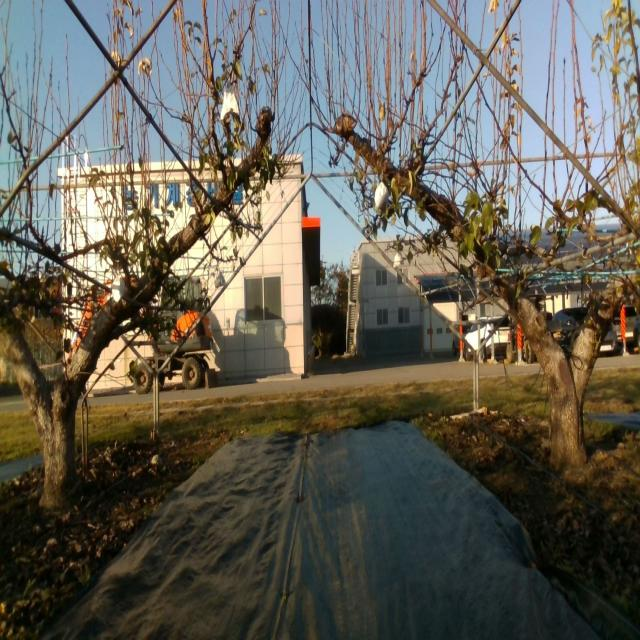pearbags: (220, 86, 239, 122), (374, 180, 388, 217), (112, 270, 126, 304), (214, 267, 226, 288)
